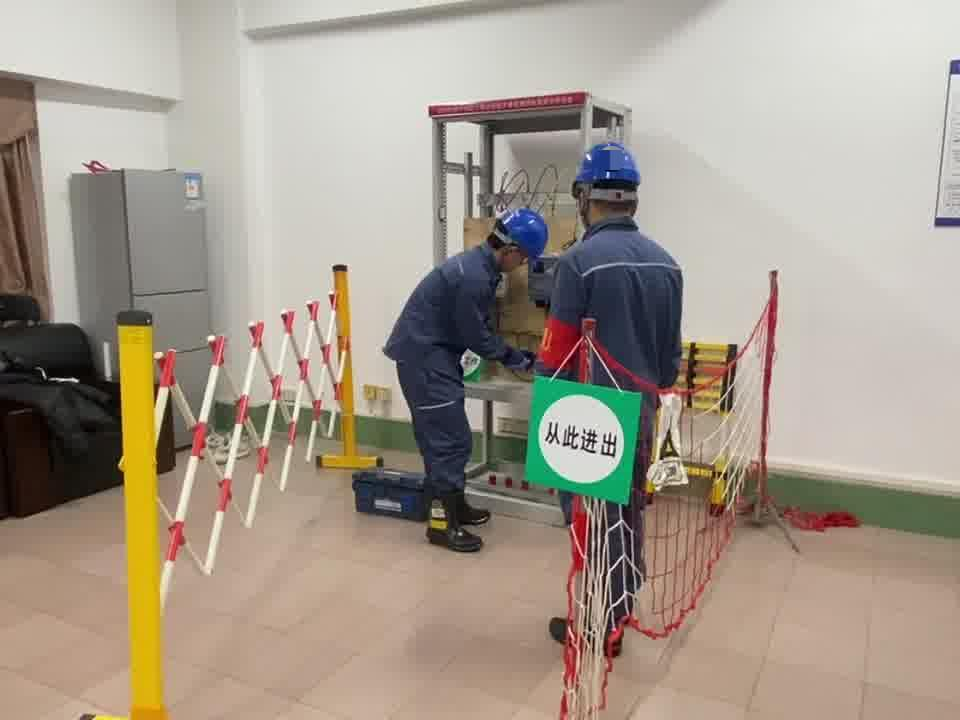halt: (573, 144, 648, 225), (498, 209, 552, 274)
inear: (575, 188, 597, 222)
